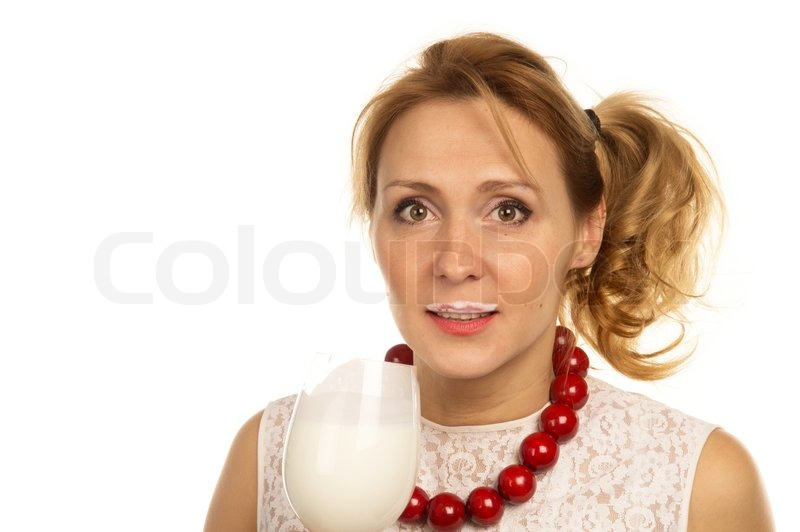glass of milk: (287, 345, 417, 532)
